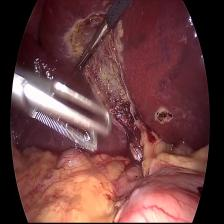Grasper: (17, 64, 117, 160), (71, 17, 112, 77)
